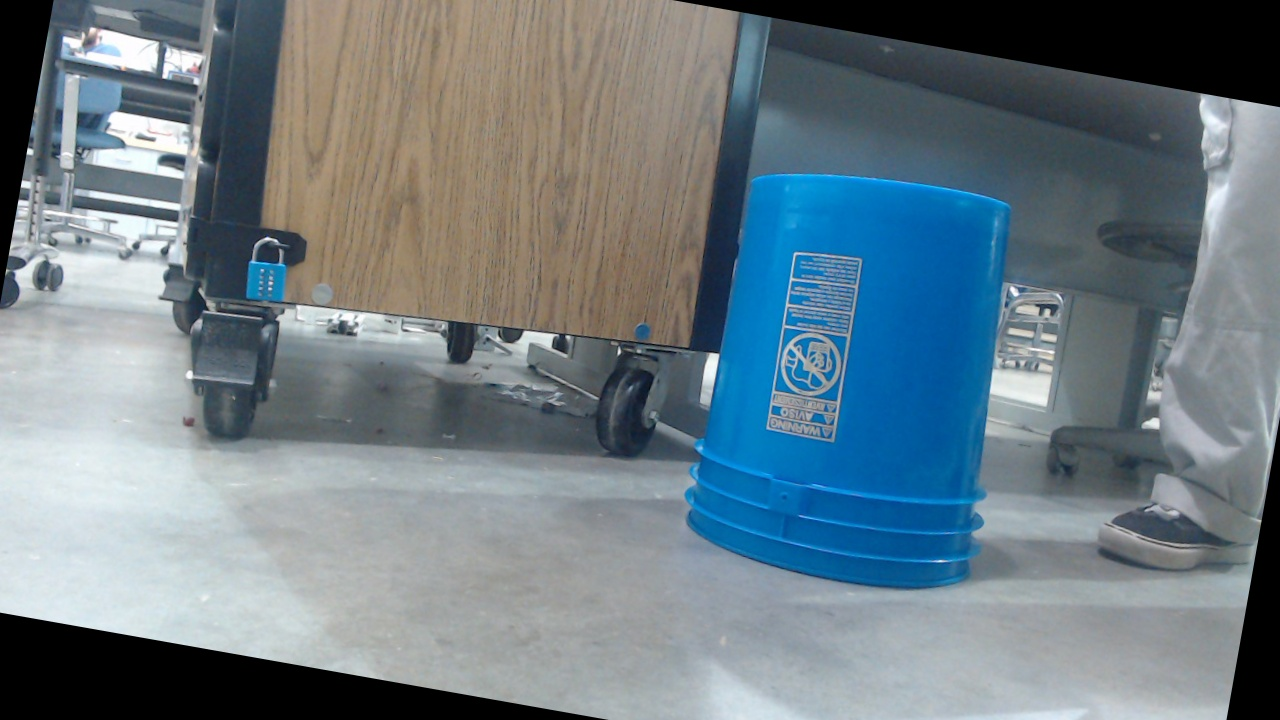blue_bucket: (669, 73, 1045, 539)
